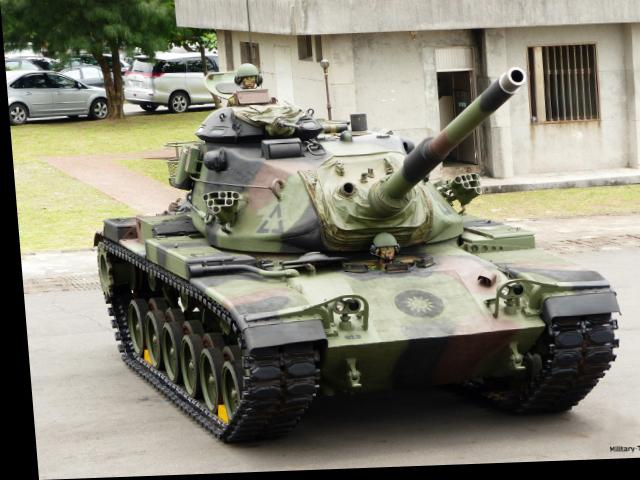other: (210, 37, 266, 103)
tank: (81, 116, 618, 429)
